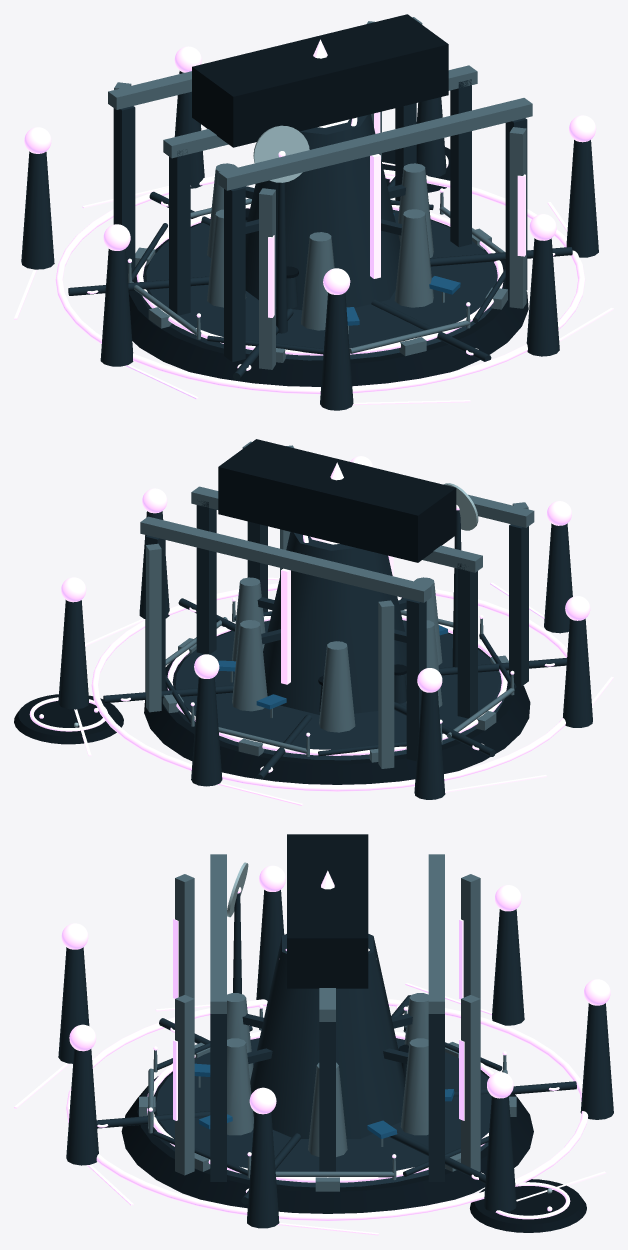
Rendered from naniteFactory-stage4.glb.
The picture shows the model from 3 angles, top to bottom: view 1: azimuth 30°, elevation 25°; view 2: azimuth 150°, elevation 25°; view 3: azimuth 270°, elevation 25°; orthographic projection. The views are drawn at different scales.
Parts seen in each view (by area): view 1: orbital-assembly-hall, assembler-spire, upper-deck, armored-foundation, assembly-gantry-2.75, district-grid-3, gantry-support--4.050000000000001-2.75, gantry-support--4.050000000000001-0, gantry-support-4.050000000000001-0, gantry-support--4.050000000000001--2.75, energy-pylon-1, energy-pylon-0 (+33 smaller); view 2: orbital-assembly-hall, assembler-spire, upper-deck, armored-foundation, assembly-gantry--2.75, district-grid-3, landing-pad, gantry-support--4.050000000000001-2.75, gantry-support--4.050000000000001-0, mega-pylon-2, gantry-support-4.050000000000001-0, gantry-support--4.050000000000001--2.75 (+32 smaller); view 3: assembler-spire, orbital-assembly-hall, armored-foundation, upper-deck, district-grid-3, landing-pad, mega-pylon-0, mega-pylon-3, energy-pylon-0, energy-pylon-4, energy-pylon-5, energy-pylon-3 (+30 smaller).
Part boxes in pixels (x1=…): orbital-assembly-hall: x1=192, y1=14, x2=448, y2=147; assembler-spire: x1=245, y1=114, x2=400, y2=310; upper-deck: x1=139, y1=210, x2=502, y2=360; armored-foundation: x1=128, y1=210, x2=528, y2=386; assembly-gantry-2.75: x1=218, y1=98, x2=532, y2=190; district-grid-3: x1=55, y1=169, x2=585, y2=394; gantry-support--4.050000000000001-2.75: x1=224, y1=186, x2=245, y2=361; gantry-support--4.050000000000001-0: x1=169, y1=149, x2=190, y2=315; gantry-support-4.050000000000001-0: x1=450, y1=79, x2=471, y2=247; gantry-support--4.050000000000001--2.75: x1=113, y1=106, x2=135, y2=278; energy-pylon-1: x1=320, y1=292, x2=353, y2=410; energy-pylon-0: x1=526, y1=238, x2=559, y2=356; orbital-assembly-hall: x1=218, y1=439, x2=456, y2=562; assembler-spire: x1=263, y1=532, x2=406, y2=714; upper-deck: x1=172, y1=620, x2=504, y2=760; armored-foundation: x1=144, y1=620, x2=530, y2=784; assembly-gantry--2.75: x1=140, y1=516, x2=431, y2=602; district-grid-3: x1=91, y1=583, x2=567, y2=791; landing-pad: x1=14, y1=694, x2=123, y2=744; gantry-support--4.050000000000001-2.75: x1=509, y1=524, x2=528, y2=686; gantry-support--4.050000000000001-0: x1=457, y1=563, x2=477, y2=718; mega-pylon-2: x1=378, y1=600, x2=394, y2=768; gantry-support-4.050000000000001-0: x1=196, y1=501, x2=216, y2=654; gantry-support--4.050000000000001--2.75: x1=406, y1=599, x2=426, y2=761; assembler-spire: x1=250, y1=934, x2=405, y2=1138; orbital-assembly-hall: x1=287, y1=834, x2=368, y2=988; armored-foundation: x1=121, y1=1038, x2=533, y2=1213; upper-deck: x1=153, y1=1038, x2=491, y2=1187; district-grid-3: x1=66, y1=999, x2=588, y2=1220; landing-pad: x1=470, y1=1179, x2=586, y2=1232; mega-pylon-0: x1=175, y1=995, x2=194, y2=1175; mega-pylon-3: x1=461, y1=995, x2=480, y2=1171; energy-pylon-0: x1=66, y1=1049, x2=98, y2=1165; energy-pylon-4: x1=580, y1=1003, x2=613, y2=1119; energy-pylon-5: x1=483, y1=1096, x2=516, y2=1212; energy-pylon-3: x1=492, y1=909, x2=524, y2=1025.
Bounding box in the file's own units: 16.82 × 8.15 × 16.95.
